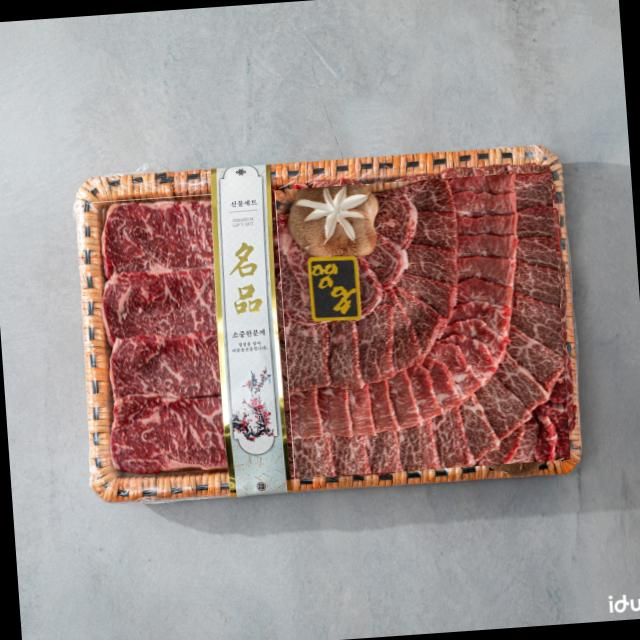beef: (274, 170, 570, 478), (92, 194, 230, 476)
